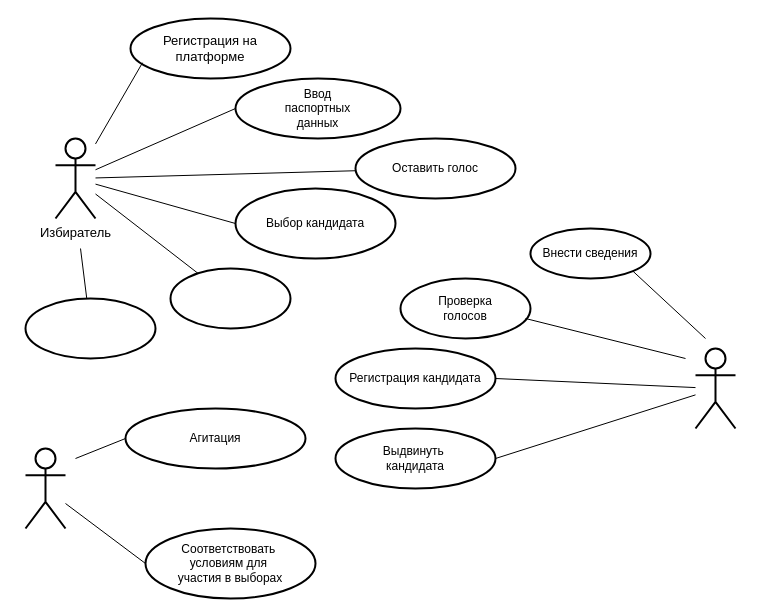
Image size: 776x616. Some labels were removed from this diagram. The shapes that lost their labels are listed below. From the top down, each one's centre as x and y in pixels, then its label:
At point 230,298: "Просмотр агитационных материалов".
At point 90,328: "Получение сведений о кандидате".
At point 715,388: "Администратор".
At point 45,488: "Кандидат".
